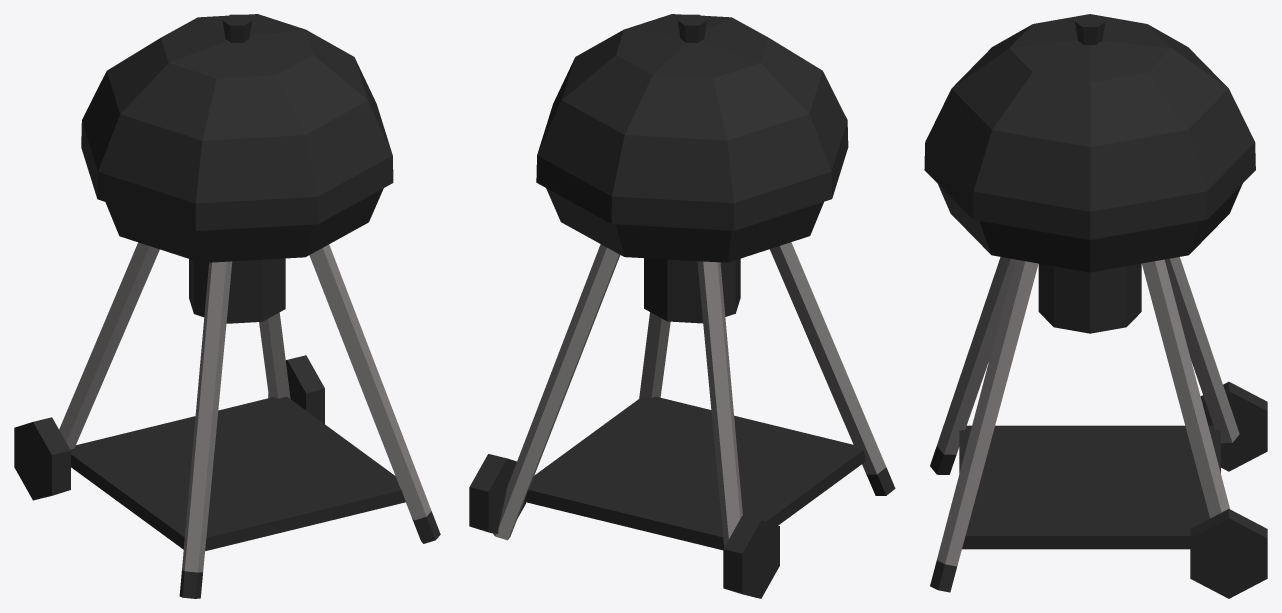
File: grill-round.glb
3 renders of one model, left to right at view 1: azimuth 30°, elevation 25°; view 2: azimuth 150°, elevation 25°; view 3: azimuth 270°, elevation 25°, orthographic. The views are drawn at different scales.
Visible parts, largest first — view 1: grill-round-base, grill-round-top; view 2: grill-round-base, grill-round-top; view 3: grill-round-base, grill-round-top.
Part boxes in pixels (x1,y1,x2,y2): grill-round-base: (14, 188, 440, 598); grill-round-top: (81, 14, 393, 230); grill-round-base: (469, 188, 895, 598); grill-round-top: (536, 14, 848, 230); grill-round-base: (930, 184, 1267, 598); grill-round-top: (924, 14, 1255, 239).
Size of the model in its own units: 0.6026 by 1.03 by 0.6237.
Materials: 1 (1 with a texture image).
